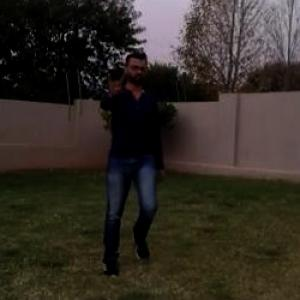takeoff-hand: (96, 64, 128, 103)
